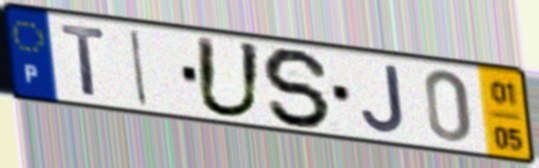0: (421, 67, 476, 147)
I: (128, 26, 151, 109)
J: (358, 62, 409, 136)
S: (260, 45, 335, 131)
T: (58, 21, 110, 100)
U: (192, 32, 266, 121)
